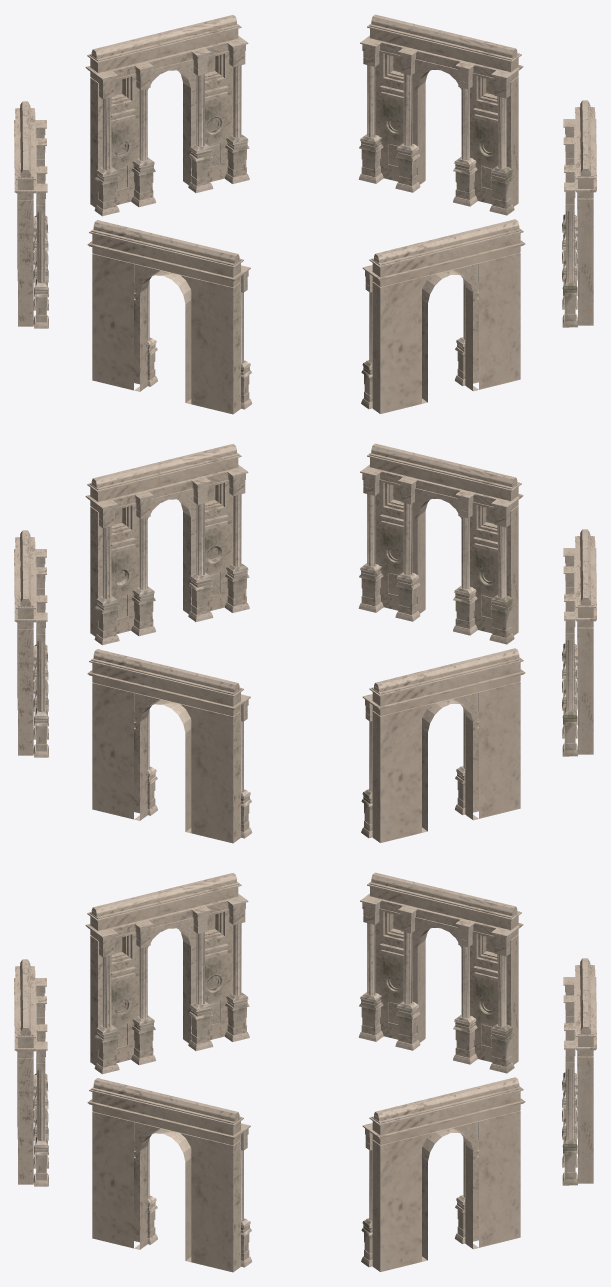
The model's file is atrium_Arches.fbx.
The picture shows the model from 3 angles, top to bottom: view 1: azimuth 30°, elevation 25°; view 2: azimuth 150°, elevation 25°; view 3: azimuth 270°, elevation 25°; orthographic projection.
Visible parts, largest first — view 1: UVArch.001, UVArch.002, UVArch.004, UVArch.006, UVArch.005, UVArch.003; view 2: UVArch.006, UVArch.005, UVArch.002, UVArch.003, UVArch.004, UVArch.001; view 3: UVArch.003, UVArch.004, UVArch.005, UVArch.001, UVArch.002, UVArch.006.
Boxes of the visible parts, x1,y1,x2,y2 form: UVArch.001: (358, 14, 523, 215); UVArch.002: (85, 15, 249, 216); UVArch.004: (87, 220, 252, 414); UVArch.006: (361, 219, 525, 413); UVArch.005: (562, 100, 596, 327); UVArch.003: (14, 101, 48, 328); UVArch.006: (358, 443, 523, 644); UVArch.005: (85, 444, 249, 645); UVArch.002: (87, 649, 252, 843); UVArch.003: (361, 648, 525, 842); UVArch.004: (562, 529, 596, 756); UVArch.001: (14, 530, 48, 757); UVArch.003: (358, 872, 523, 1073); UVArch.004: (85, 873, 249, 1074); UVArch.005: (87, 1078, 252, 1272); UVArch.001: (361, 1077, 525, 1271); UVArch.002: (562, 958, 596, 1185); UVArch.006: (14, 959, 48, 1186).
Bounding box in the file's own units: 3793 × 1112 × 3751.
Materials: 1 (1 with a texture image).
